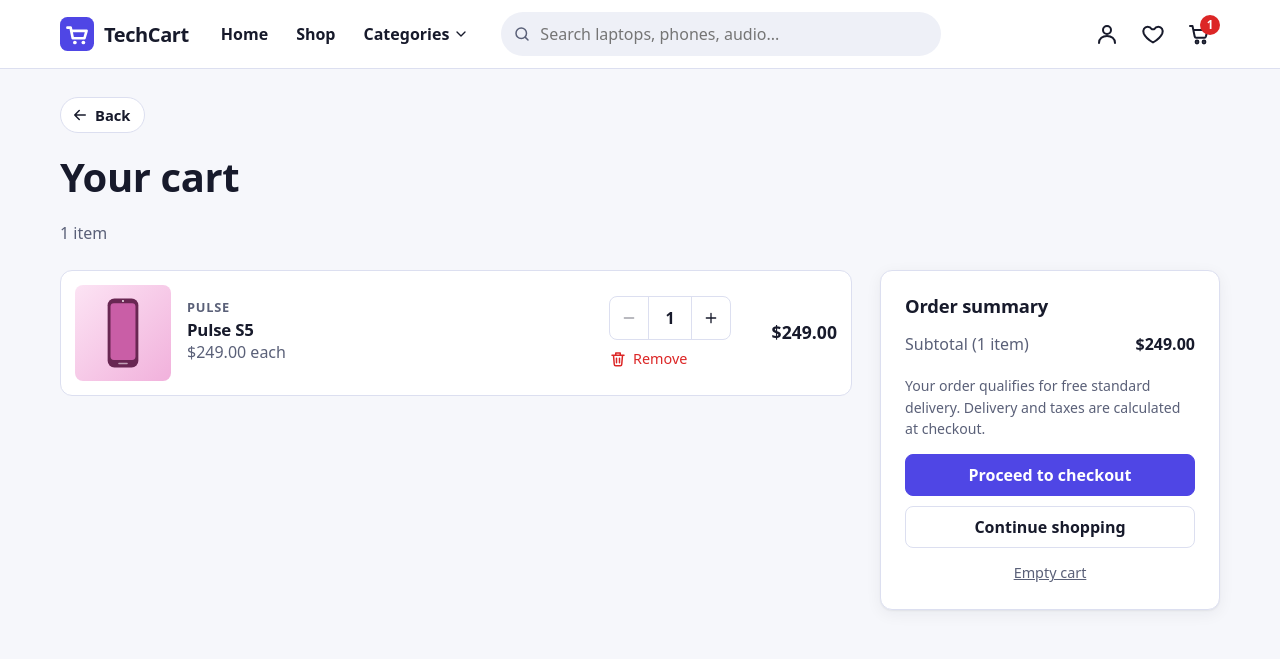
Test: checkout access › is reached from the cart page
Click the link "Proceed to checkout" at [1050, 475], box [905,454,1195,496]
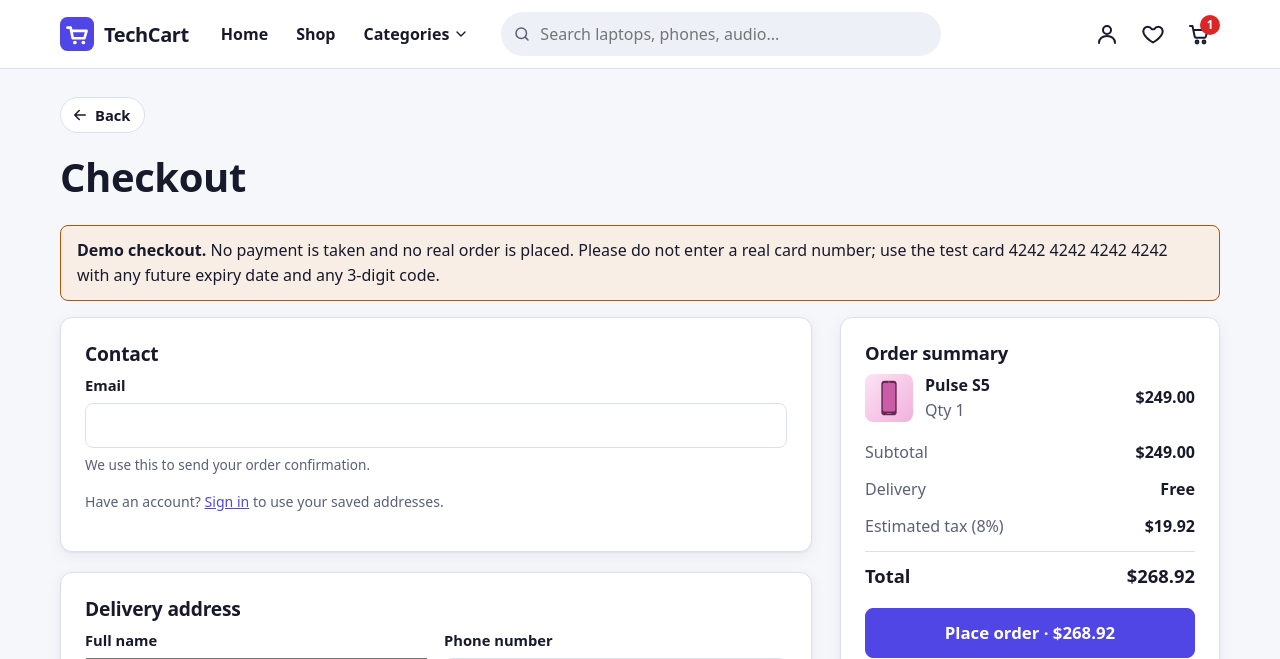
Expected: the heading "Checkout" is shown, [60,149,246,204]
